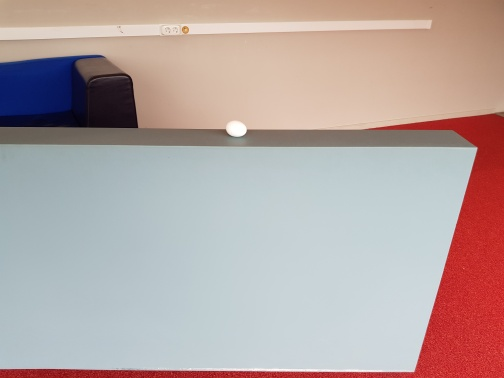egg: (224, 119, 250, 138)
